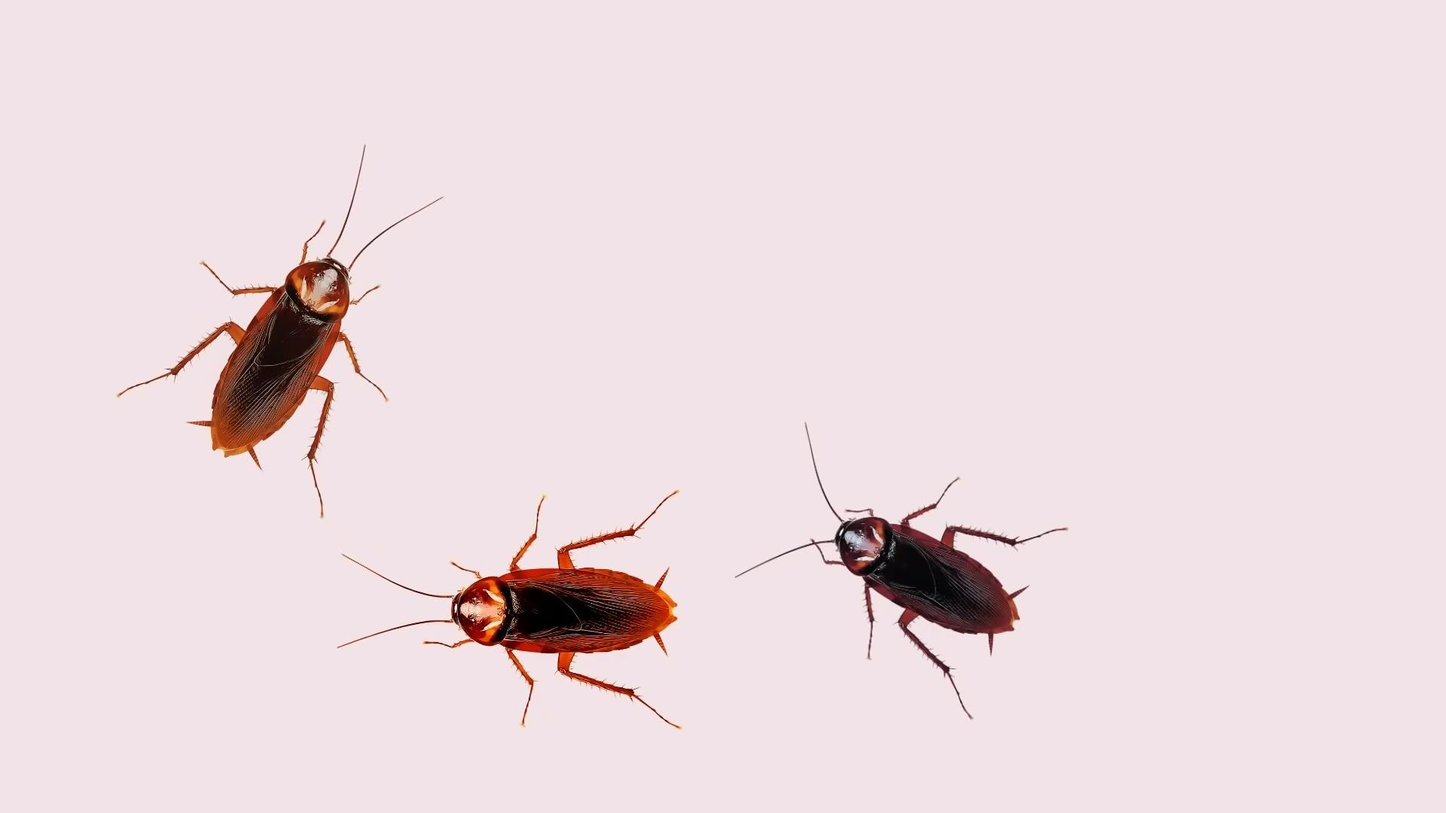cockroach: (121, 144, 446, 526), (754, 425, 1070, 718), (317, 508, 697, 726)
